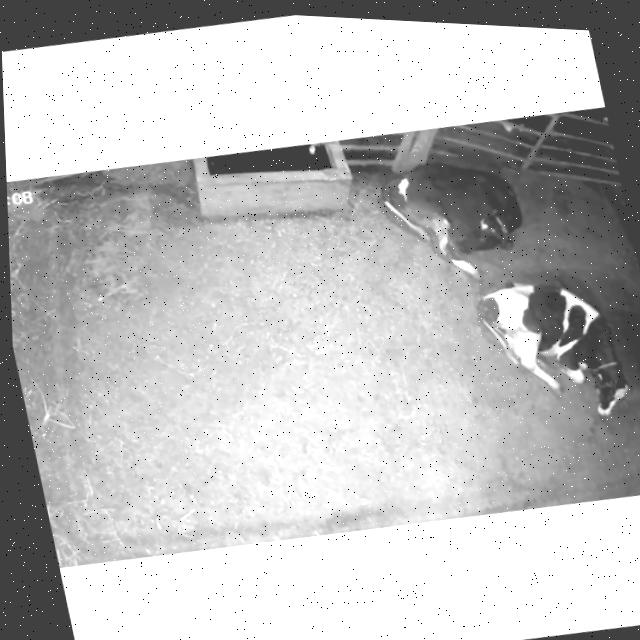lay: (461, 254, 640, 454), (370, 136, 558, 296)
